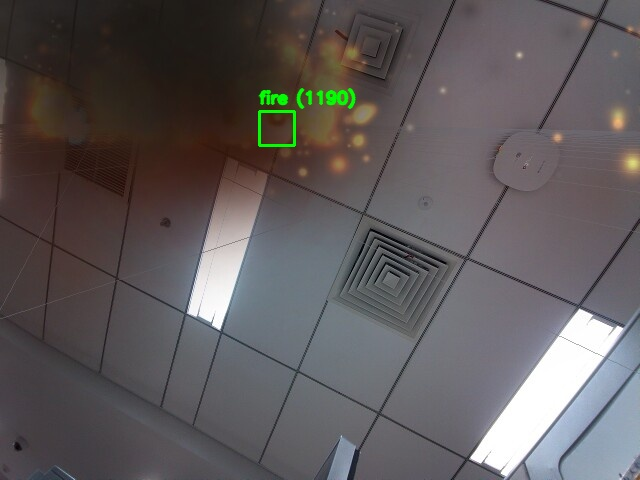fire: (259, 111, 294, 145)
